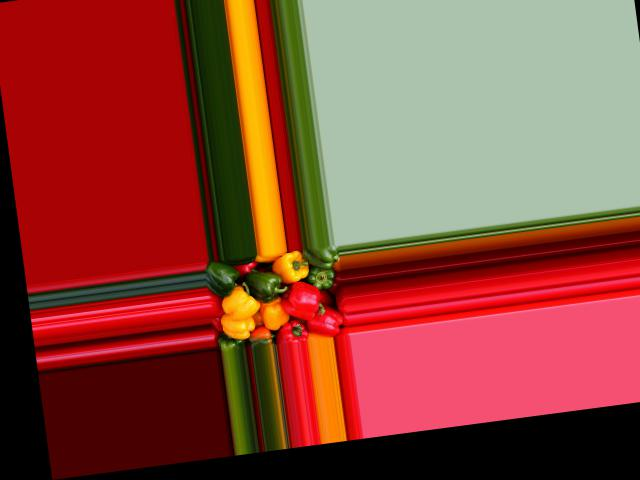bell_pepper: (218, 332, 249, 351)
